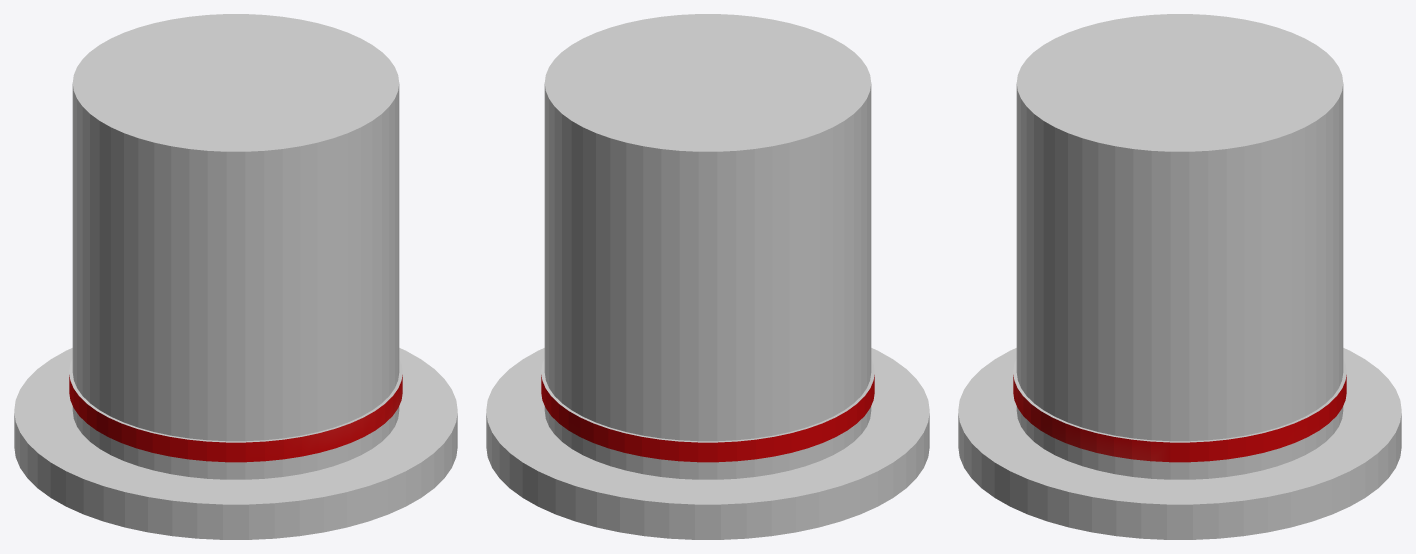
The model's file is Top_Hat.fbx.
3 views of the same model, side by side, from view 1: azimuth 30°, elevation 25°; view 2: azimuth 150°, elevation 25°; view 3: azimuth 270°, elevation 25° (orthographic).
Parts seen in each view (by area): view 1: Cylinder; view 2: Cylinder; view 3: Cylinder.
Boxes of the visible parts, x1,y1,x2,y2 form: Cylinder: (14, 14, 457, 539); Cylinder: (486, 14, 929, 539); Cylinder: (958, 14, 1401, 539).
Size of the model in its own units: 200 by 181 by 200.
